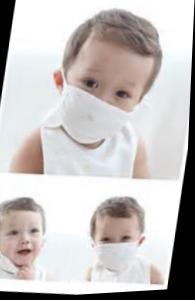OK: (59, 60, 148, 152), (93, 226, 143, 276)
WRONG: (2, 219, 48, 271)
